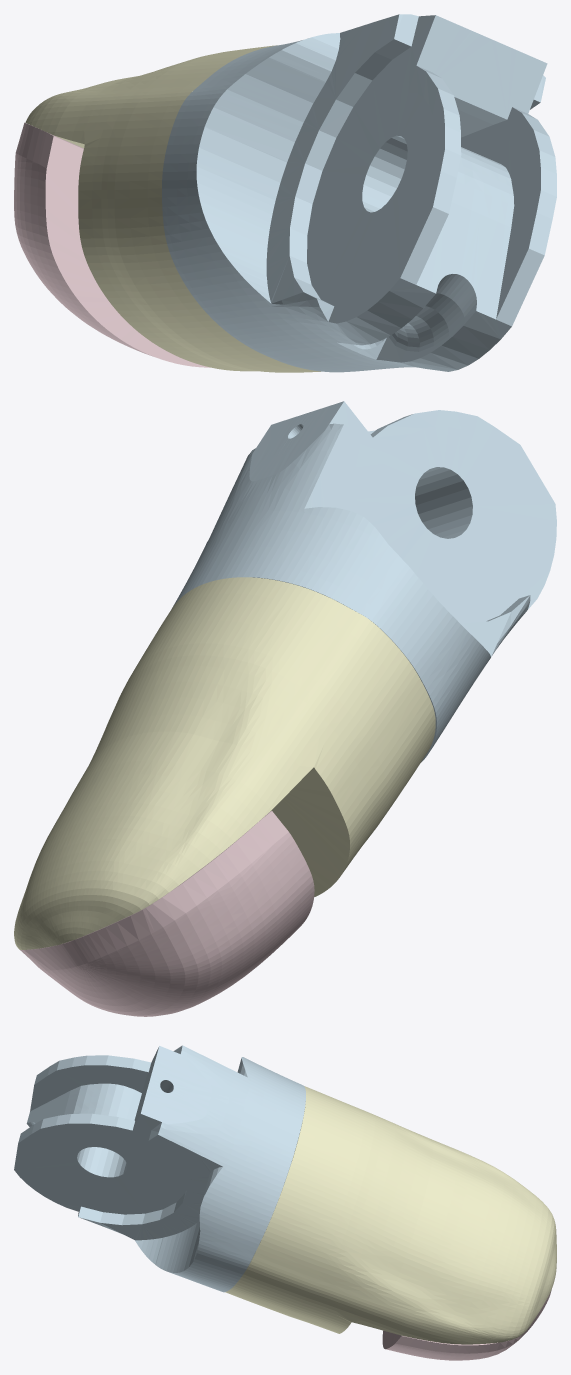
Rendered from i02_leftHand_majeureTip_visual.obj.full.glb.
3 renders of one model, top to bottom at view 1: azimuth 30°, elevation 25°; view 2: azimuth 150°, elevation 25°; view 3: azimuth 270°, elevation 25°, orthographic. The views are drawn at different scales.
Size of the model in its own units: 0.158 by 0.2378 by 0.3769.
